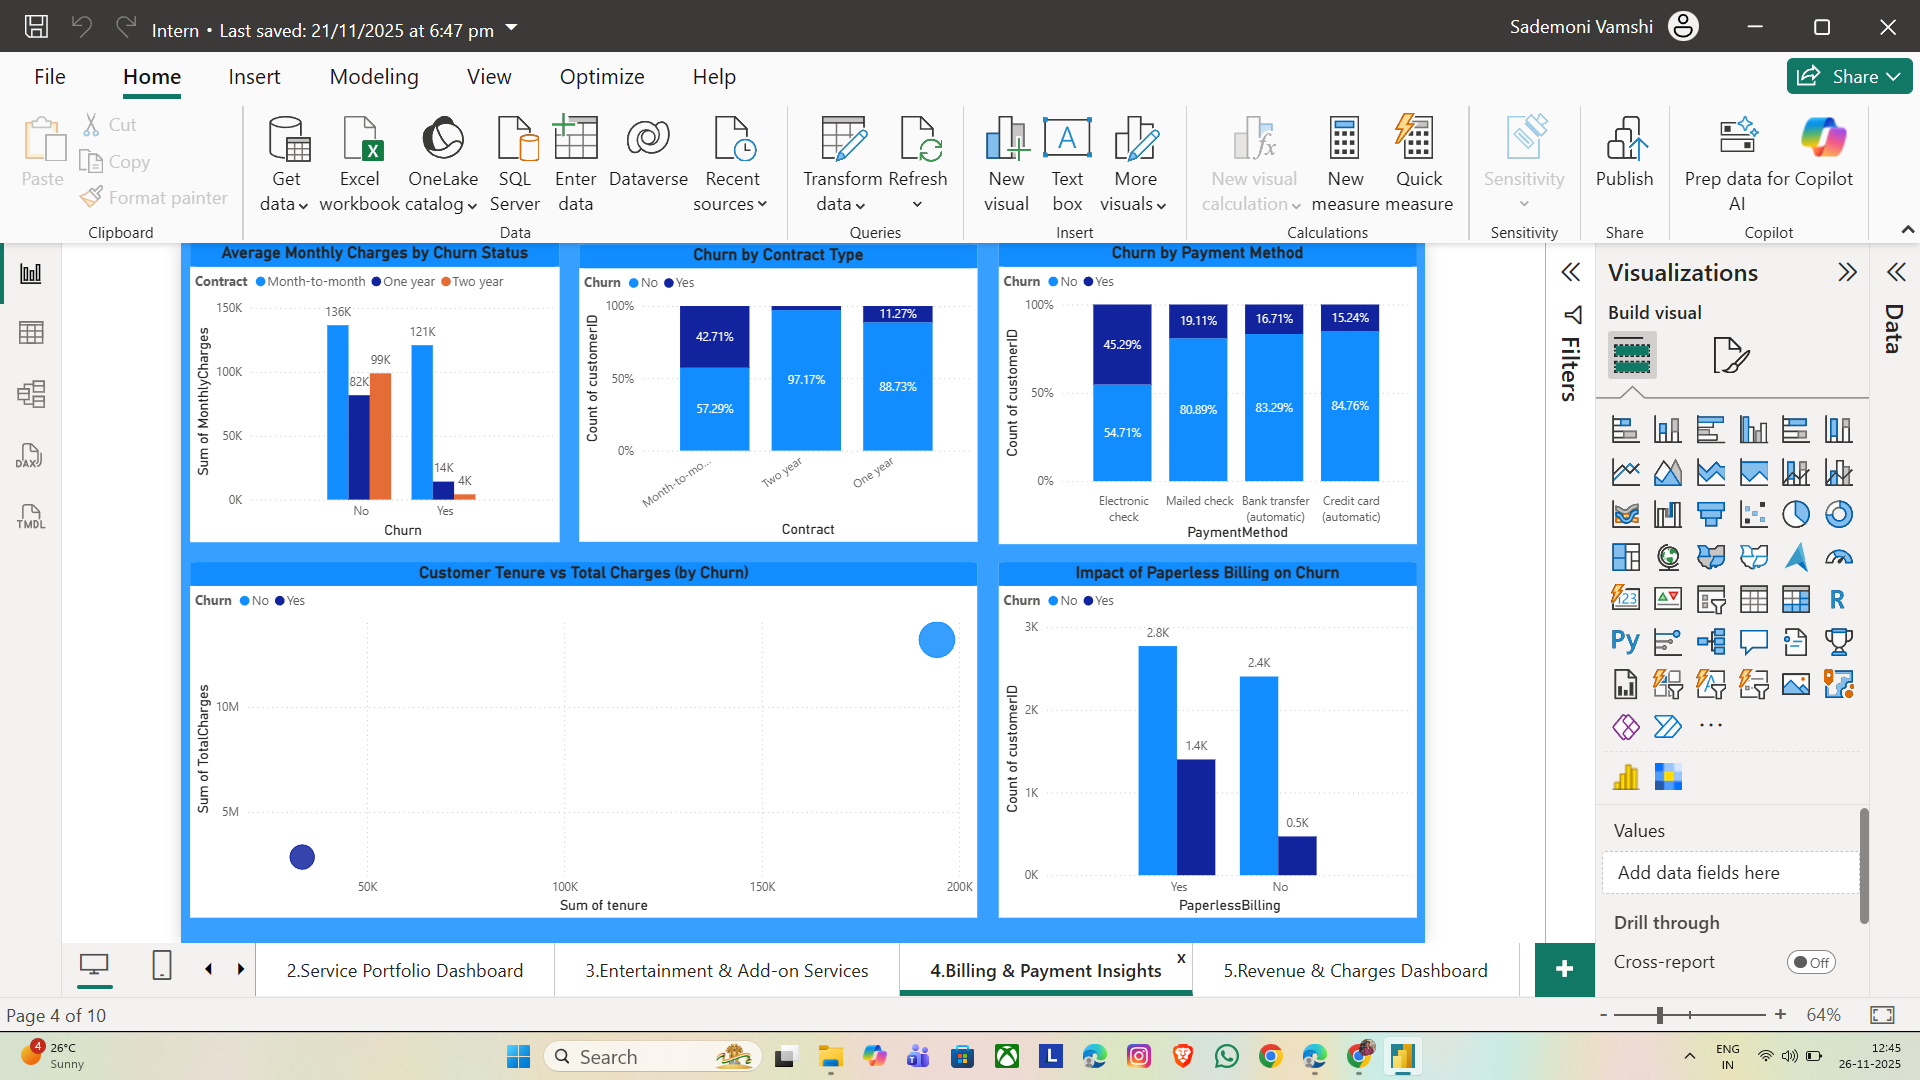

The dashboard page shown, as its layout file describes it:
{"tool":"powerbi","page":{"name":"4.Billing & Payment Insights","canvas":[1280,720],"ordinal":3},"visuals":[{"type":"clusteredColumnChart","title":"Average Monthly Charges by Churn Status","fields":{"Category":["Telco_Customer_Churn.Churn"],"Y":["Sum(Telco_Customer_Churn.MonthlyCharges)"],"Series":["Telco_Customer_Churn.Contract"]},"box":[10,0,380,308],"z":0},{"type":"scatterChart","title":"Customer Tenure vs Total Charges (by Churn)","fields":{"X":["Sum(Telco_Customer_Churn.tenure)"],"Y":["Sum(Telco_Customer_Churn.TotalCharges)"],"Series":["Telco_Customer_Churn.Churn"],"Size":["Sum(Telco_Customer_Churn.MonthlyCharges)"]},"box":[10,328,810,366],"z":1000},{"type":"hundredPercentStackedColumnChart","title":"Churn by Contract Type","fields":{"Category":["Telco_Customer_Churn.Contract"],"Y":["CountNonNull(Telco_Customer_Churn.customerID)"],"Series":["Telco_Customer_Churn.Churn"]},"box":[410,2,410,306],"z":2000},{"type":"hundredPercentStackedColumnChart","title":"Churn by Payment Method","fields":{"Category":["Telco_Customer_Churn.PaymentMethod"],"Y":["CountNonNull(Telco_Customer_Churn.customerID)"],"Series":["Telco_Customer_Churn.Churn"]},"box":[842,0,430,310],"z":3000},{"type":"clusteredColumnChart","title":"Impact of Paperless Billing on Churn","fields":{"Category":["Telco_Customer_Churn.PaperlessBilling"],"Y":["CountNonNull(Telco_Customer_Churn.customerID)"],"Series":["Telco_Customer_Churn.Churn"]},"box":[842,328,430,366],"z":4000}]}

Visuals, with their boxes on the page's 1280x720 design canvas (x1, y1, x2, y2). These are canvas units, not pixel positions in the 1920x1080 screenshot, which may show the page scaled, cropped or inside an application window:
"Average Monthly Charges by Churn Status" clusteredColumnChart: 10, 0, 390, 308
"Customer Tenure vs Total Charges (by Churn)" scatterChart: 10, 328, 820, 694
"Churn by Contract Type" hundredPercentStackedColumnChart: 410, 2, 820, 308
"Churn by Payment Method" hundredPercentStackedColumnChart: 842, 0, 1272, 310
"Impact of Paperless Billing on Churn" clusteredColumnChart: 842, 328, 1272, 694
